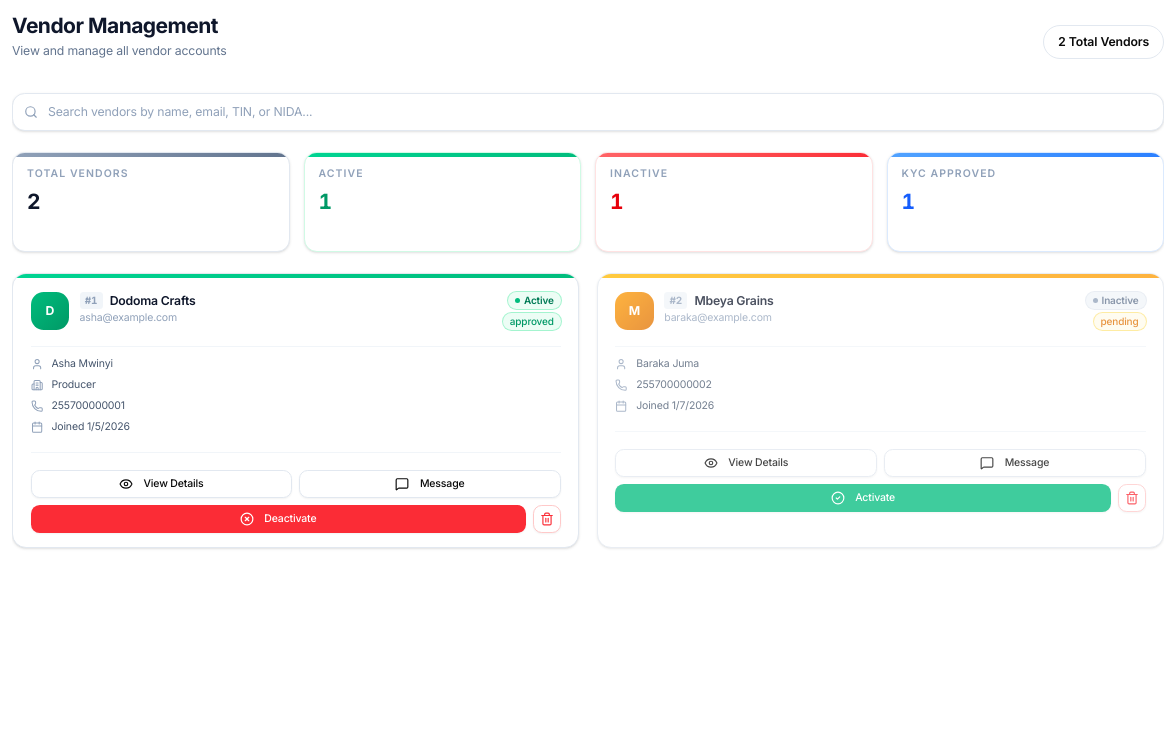
VendorManagementTab › search › finds a vendor by TIN, which is how support requests arrive
Expected: the heading "Dodoma Crafts" is shown, [110,293,196,308]
Step 1. Type "TIN-222" into the field with placeholder "Search vendors by name, email, TIN, or NIDA..." → (588, 112), box [12,92,1164,131]
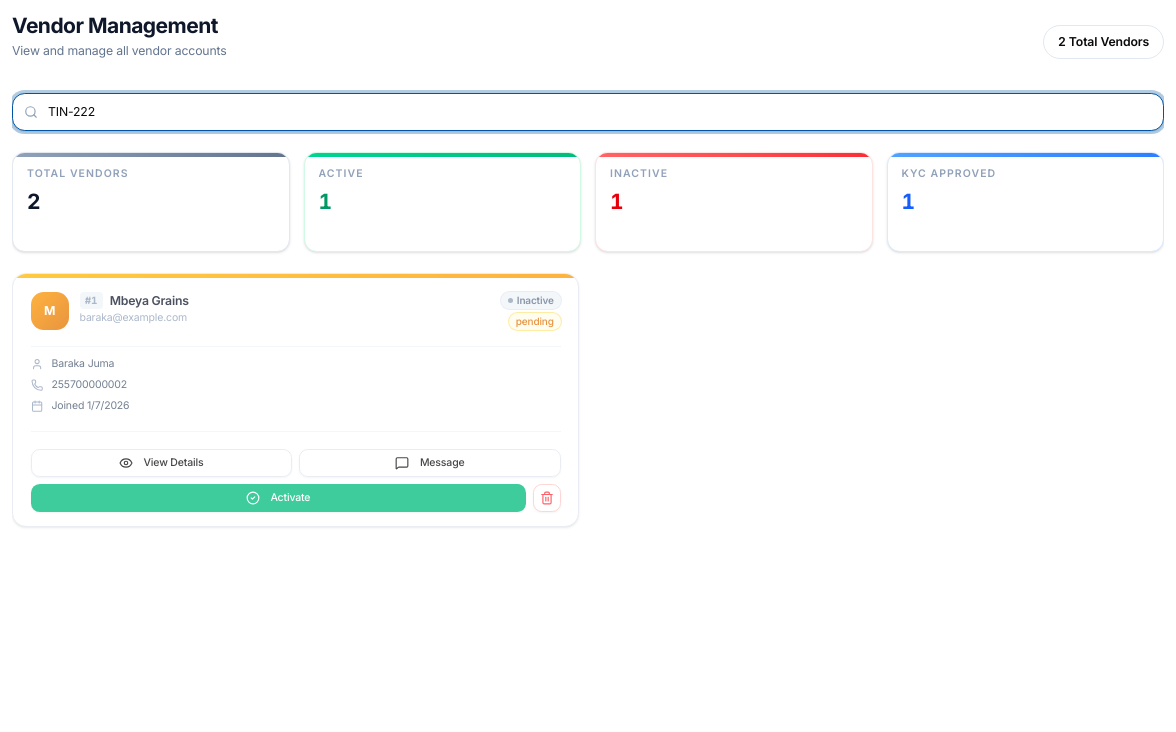
Now the heading "Dodoma Crafts" is gone
